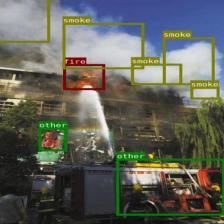fire: (63, 64, 104, 90)
smoke: (62, 22, 144, 68), (162, 37, 214, 84), (0, 0, 49, 42), (130, 63, 182, 85), (190, 87, 219, 99)
